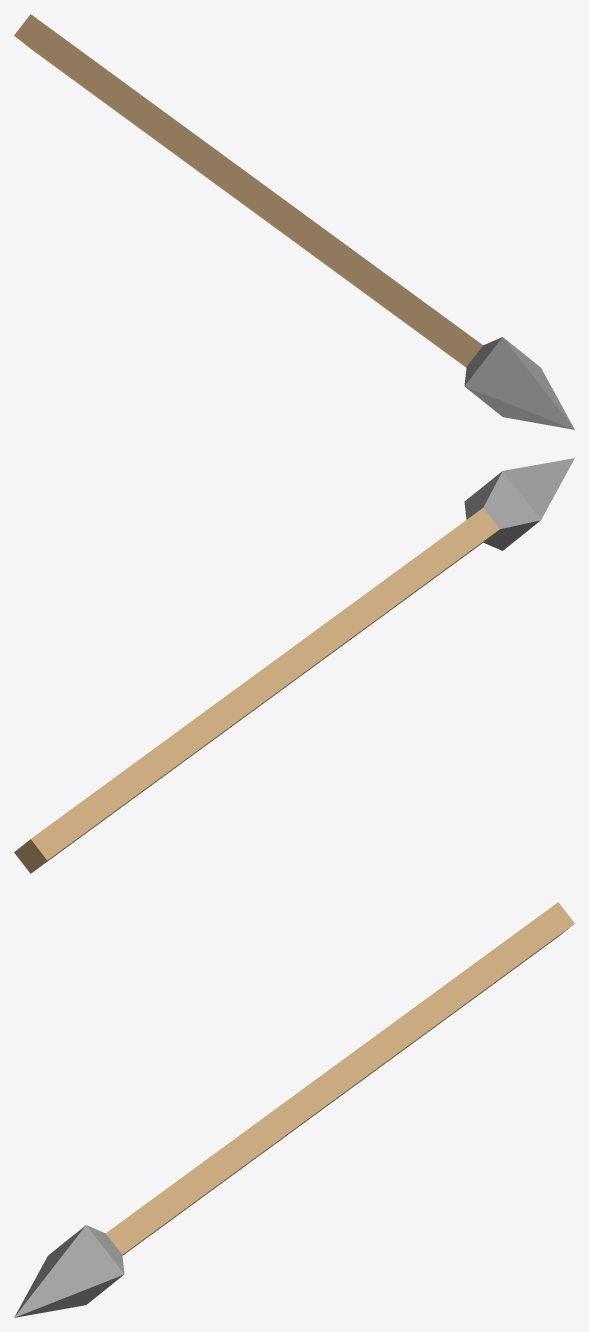
File: Javelin.glb
3 views of the same model, one above another, from view 1: azimuth 30°, elevation 25°; view 2: azimuth 150°, elevation 25°; view 3: azimuth 330°, elevation 25° (orthographic).
Parts seen in each view (by area): view 1: Pike.001, Pike, Javelin; view 2: Pike.001, Pike; view 3: Pike.001, Pike.
Boxes of the visible parts, <box> form: Pike.001: <box>14,14,482,367</box>; Pike: <box>464,337,574,429</box>; Javelin: <box>18,14,464,350</box>; Pike.001: <box>14,508,499,873</box>; Pike: <box>464,458,574,550</box>; Pike.001: <box>106,902,574,1255</box>; Pike: <box>14,1225,124,1317</box>.
Size of the model in its own units: 0.1438 by 0.1438 by 1.77.
